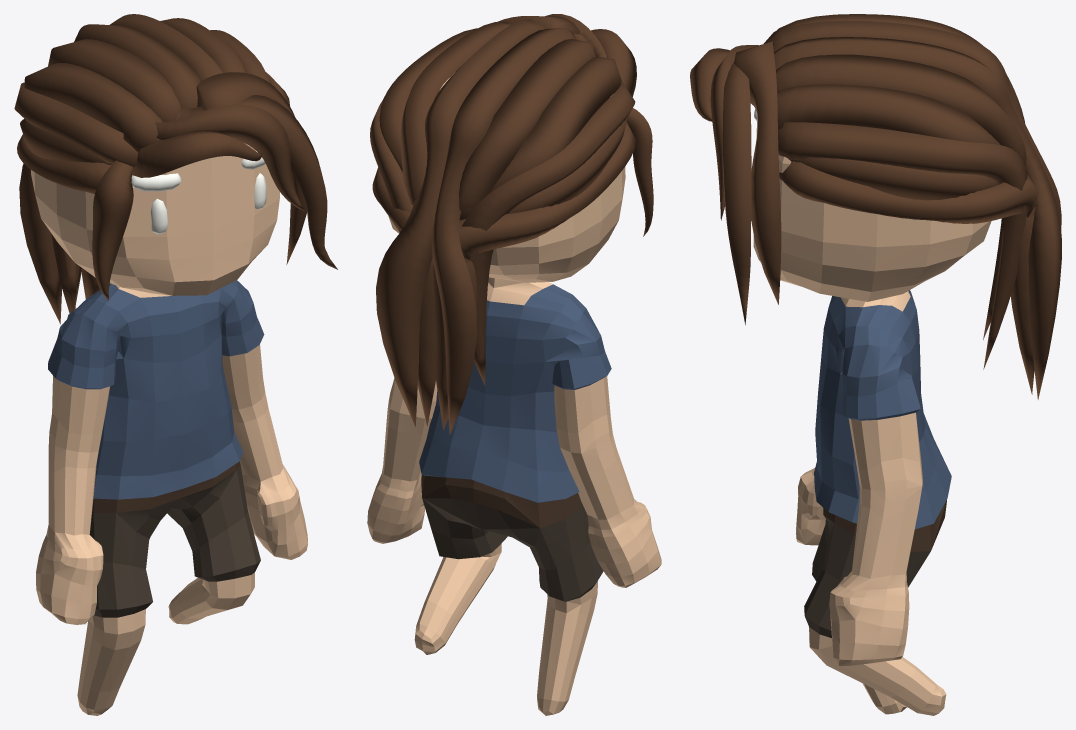
File: marche-femme.glb
The picture shows the model from 3 angles, left to right: view 1: azimuth 30°, elevation 25°; view 2: azimuth 150°, elevation 25°; view 3: azimuth 270°, elevation 25°; orthographic projection. The views are drawn at different scales.
Parts seen in each view (by area): view 1: Cube004, Cube004_5, Cube004_1, Cube004_2, Cube004_4, Cube004_3; view 2: Cube004_5, Cube004, Cube004_1, Cube004_2, Cube004_3; view 3: Cube004_5, Cube004, Cube004_1, Cube004_2, Cube004_3.
Part boxes in pixels (<box>): Cube004: <box>31,143,307,715</box>; Cube004_5: <box>14,14,337,324</box>; Cube004_1: <box>48,280,264,499</box>; Cube004_2: <box>89,465,260,617</box>; Cube004_4: <box>131,151,266,234</box>; Cube004_3: <box>92,461,240,513</box>; Cube004_5: <box>370,14,653,434</box>; Cube004: <box>367,73,661,715</box>; Cube004_1: <box>419,284,611,502</box>; Cube004_2: <box>422,498,603,601</box>; Cube004_3: <box>421,474,582,527</box>; Cube004_5: <box>690,14,1061,399</box>; Cube004: <box>753,116,991,715</box>; Cube004_1: <box>814,290,951,529</box>; Cube004_2: <box>804,515,930,637</box>; Cube004_3: <box>823,500,946,551</box>.
Size of the model in its own units: 0.6976 by 1.64 by 0.7791.
